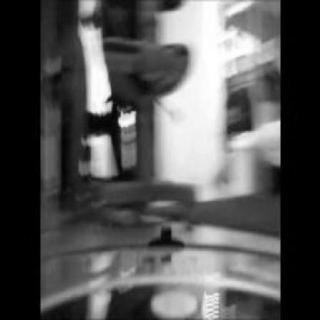other: (240, 89, 276, 125)
